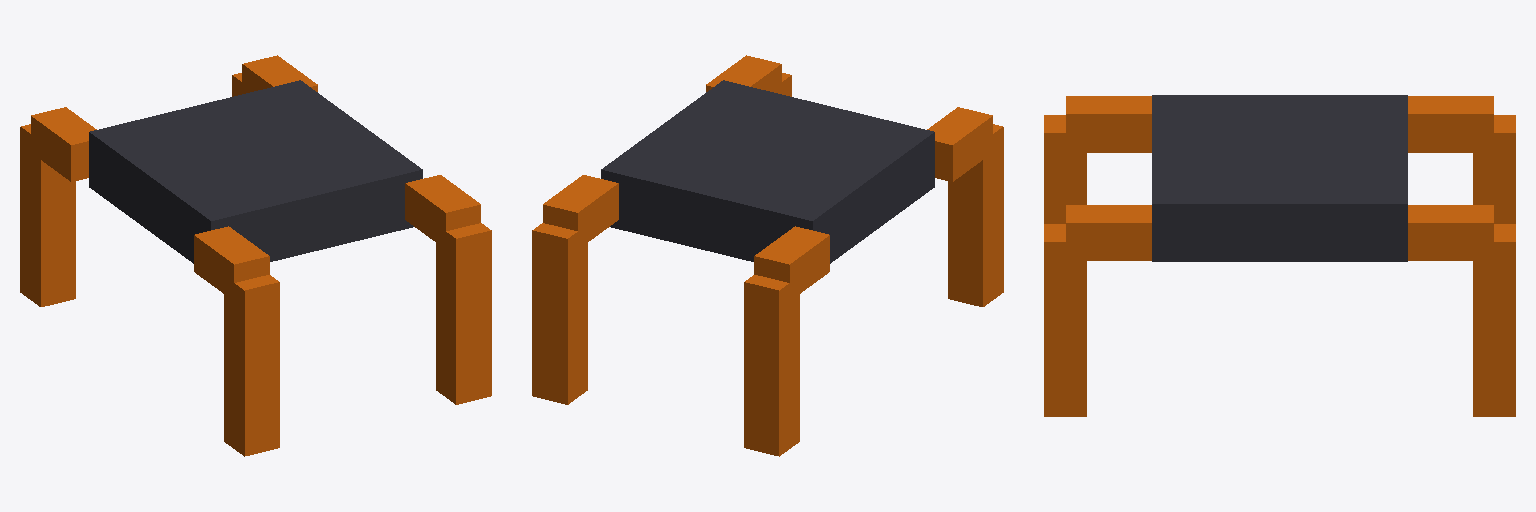
The robot description file, URDF, robot "quadruped":
<?xml version="1.0" ?>
<!-- =================================================================================== -->
<!-- |    This document was autogenerated by xacro from /workspace/src/quadruped_sim/urdf/quadruped.urdf.xacro | -->
<!-- |    EDITING THIS FILE BY HAND IS NOT RECOMMENDED                                 | -->
<!-- =================================================================================== -->
<robot name="quadruped">
  <!-- ============================================================
       SYNCHRONIZED KDL / WEBOTS MODEL

       Leg numbering:

         0 = FRONT LEFT
         1 = FRONT RIGHT
         2 = BACK LEFT
         3 = BACK RIGHT

       Coordinate convention:

         +X = forward
         +Y = left
         +Z = up
       ============================================================ -->
  <!-- BODY -->
  <!-- KDL GEOMETRY -->
  <!-- JOINT LIMITS -->
  <!-- MASSES -->
  <!-- MATERIALS -->
  <material name="body_grey">
    <color rgba="0.25 0.25 0.28 1"/>
  </material>
  <material name="leg_orange">
    <color rgba="0.85 0.45 0.1 1"/>
  </material>
  <material name="foot_black">
    <color rgba="0.05 0.05 0.05 1"/>
  </material>
  <!-- INERTIA HELPERS -->
  <!-- BASE LINK -->
  <link name="base_link">
    <visual>
      <origin rpy="0 0 0" xyz="0 0 0"/>
      <geometry>
        <box size="0.15239999999999998                 0.15239999999999998                 0.038099999999999995"/>
      </geometry>
      <material name="body_grey"/>
    </visual>
    <collision>
      <origin rpy="0 0 0" xyz="0 0 0"/>
      <geometry>
        <box size="0.15239999999999998                 0.15239999999999998                 0.038099999999999995"/>
      </geometry>
    </collision>
    <inertial>
      <origin rpy="0 0 0" xyz="0 0 0"/>
      <mass value="0.6"/>
      <inertia ixx="0.0012338684999999997" ixy="0" ixz="0" iyy="0.0012338684999999997" iyz="0" izz="0.0023225759999999994"/>
    </inertial>
  </link>
  <!-- LEG MACRO -->
  <!-- ============================================================
       LEG POSITIONS

                   +X FORWARD

              0 FL       1 FR

              2 BL       3 BR

                   -X BACK
       ============================================================ -->
  <!-- 0 FRONT LEFT -->
  <!-- JOINT 1 -->
  <joint name="joint1_leg0" type="revolute">
    <parent link="base_link"/>
    <child link="leg0_link1"/>
    <origin rpy="0 0 0" xyz="0.07619999999999999 0.07619999999999999 0"/>
    <axis xyz="0 0 1"/>
    <limit effort="2.0" lower="-1.5707963267948966" upper="1.5707963267948966" velocity="3.0"/>
  </joint>
  <!-- LINK 1 -->
  <link name="leg0_link1">
    <visual>
      <origin rpy="0 0 0" xyz="0 0.0254 0"/>
      <geometry>
        <box size="0.0254                   0.0508                   0.0254"/>
      </geometry>
      <material name="leg_orange"/>
    </visual>
    <collision>
      <origin rpy="0 0 0" xyz="0 0.0254 0"/>
      <geometry>
        <box size="0.0254                   0.0508                   0.0254"/>
      </geometry>
    </collision>
    <inertial>
      <origin rpy="0 0 0" xyz="0 0.0254 0"/>
      <mass value="0.03"/>
      <inertia ixx="8.064499999999999e-06" ixy="0" ixz="0" iyy="3.2258e-06" iyz="0" izz="8.064499999999999e-06"/>
    </inertial>
  </link>
  <!-- JOINT 3 -->
  <joint name="joint3_leg0" type="revolute">
    <parent link="leg0_link1"/>
    <child link="leg0_link2"/>
    <origin rpy="0 0 0" xyz="0 0.0508 0"/>
    <axis xyz="1 0 0"/>
    <limit effort="2.0" lower="-1.5707963267948966" upper="1.5707963267948966" velocity="3.0"/>
  </joint>
  <!-- LINK 2 -->
  <link name="leg0_link2">
    <visual>
      <origin rpy="0 0 0" xyz="0 0 -0.03175"/>
      <geometry>
        <box size="0.0254                   0.0254                   0.0635"/>
      </geometry>
      <material name="leg_orange"/>
    </visual>
    <collision>
      <origin rpy="0 0 0" xyz="0 0 -0.03175"/>
      <geometry>
        <box size="0.0254                   0.0254                   0.0635"/>
      </geometry>
    </collision>
    <inertial>
      <origin rpy="0 0 0" xyz="0 0 -0.03175"/>
      <mass value="0.03"/>
      <inertia ixx="1.1693524999999999e-05" ixy="0" ixz="0" iyy="1.1693524999999999e-05" iyz="0" izz="3.2258e-06"/>
    </inertial>
  </link>
  <!-- JOINT 4 -->
  <joint name="joint4_leg0" type="revolute">
    <parent link="leg0_link2"/>
    <child link="leg0_link3"/>
    <origin rpy="0 0 0" xyz="0 0 -0.0635"/>
    <axis xyz="1 0 0"/>
    <limit effort="2.0" lower="-1.5707963267948966" upper="1.5707963267948966" velocity="3.0"/>
  </joint>
  <!-- LINK 3 -->
  <link name="leg0_link3">
    <visual>
      <origin rpy="0 0 0" xyz="0 0 -0.0254"/>
      <geometry>
        <box size="0.0254                   0.0254                   0.0508"/>
      </geometry>
      <material name="leg_orange"/>
    </visual>
    <collision>
      <origin rpy="0 0 0" xyz="0 0 -0.0254"/>
      <geometry>
        <box size="0.0254                   0.0254                   0.0508"/>
      </geometry>
    </collision>
    <inertial>
      <origin rpy="0 0 0" xyz="0 0 -0.0254"/>
      <mass value="0.03"/>
      <inertia ixx="8.064499999999999e-06" ixy="0" ixz="0" iyy="8.064499999999999e-06" iyz="0" izz="3.2258e-06"/>
    </inertial>
  </link>
  <!-- FOOT -->
  <joint name="leg0_foot_fixed" type="fixed">
    <parent link="leg0_link3"/>
    <child link="leg0_foot"/>
    <origin rpy="0 0 0" xyz="0 0 -0.0508"/>
  </joint>
  <link name="leg0_foot">
    <visual>
      <origin rpy="0 0 0" xyz="0 0 0.0127"/>
      <geometry>
        <sphere radius="0.0127"/>
      </geometry>
      <material name="foot_black"/>
    </visual>
    <collision>
      <origin rpy="0 0 0" xyz="0 0 0.0127"/>
      <geometry>
        <sphere radius="0.0127"/>
      </geometry>
    </collision>
    <inertial>
      <origin rpy="0 0 0" xyz="0 0 0.0127"/>
      <mass value="0.01"/>
      <inertia ixx="6.4516e-07" ixy="0" ixz="0" iyy="6.4516e-07" iyz="0" izz="6.4516e-07"/>
    </inertial>
  </link>
  <!-- 1 FRONT RIGHT -->
  <!-- JOINT 1 -->
  <joint name="joint1_leg1" type="revolute">
    <parent link="base_link"/>
    <child link="leg1_link1"/>
    <origin rpy="0 0 0" xyz="0.07619999999999999 -0.07619999999999999 0"/>
    <axis xyz="0 0 1"/>
    <limit effort="2.0" lower="-1.5707963267948966" upper="1.5707963267948966" velocity="3.0"/>
  </joint>
  <!-- LINK 1 -->
  <link name="leg1_link1">
    <visual>
      <origin rpy="0 0 0" xyz="0 -0.0254 0"/>
      <geometry>
        <box size="0.0254                   0.0508                   0.0254"/>
      </geometry>
      <material name="leg_orange"/>
    </visual>
    <collision>
      <origin rpy="0 0 0" xyz="0 -0.0254 0"/>
      <geometry>
        <box size="0.0254                   0.0508                   0.0254"/>
      </geometry>
    </collision>
    <inertial>
      <origin rpy="0 0 0" xyz="0 -0.0254 0"/>
      <mass value="0.03"/>
      <inertia ixx="8.064499999999999e-06" ixy="0" ixz="0" iyy="3.2258e-06" iyz="0" izz="8.064499999999999e-06"/>
    </inertial>
  </link>
  <!-- JOINT 3 -->
  <joint name="joint3_leg1" type="revolute">
    <parent link="leg1_link1"/>
    <child link="leg1_link2"/>
    <origin rpy="0 0 0" xyz="0 -0.0508 0"/>
    <axis xyz="1 0 0"/>
    <limit effort="2.0" lower="-1.5707963267948966" upper="1.5707963267948966" velocity="3.0"/>
  </joint>
  <!-- LINK 2 -->
  <link name="leg1_link2">
    <visual>
      <origin rpy="0 0 0" xyz="0 0 -0.03175"/>
      <geometry>
        <box size="0.0254                   0.0254                   0.0635"/>
      </geometry>
      <material name="leg_orange"/>
    </visual>
    <collision>
      <origin rpy="0 0 0" xyz="0 0 -0.03175"/>
      <geometry>
        <box size="0.0254                   0.0254                   0.0635"/>
      </geometry>
    </collision>
    <inertial>
      <origin rpy="0 0 0" xyz="0 0 -0.03175"/>
      <mass value="0.03"/>
      <inertia ixx="1.1693524999999999e-05" ixy="0" ixz="0" iyy="1.1693524999999999e-05" iyz="0" izz="3.2258e-06"/>
    </inertial>
  </link>
  <!-- JOINT 4 -->
  <joint name="joint4_leg1" type="revolute">
    <parent link="leg1_link2"/>
    <child link="leg1_link3"/>
    <origin rpy="0 0 0" xyz="0 0 -0.0635"/>
    <axis xyz="1 0 0"/>
    <limit effort="2.0" lower="-1.5707963267948966" upper="1.5707963267948966" velocity="3.0"/>
  </joint>
  <!-- LINK 3 -->
  <link name="leg1_link3">
    <visual>
      <origin rpy="0 0 0" xyz="0 0 -0.0254"/>
      <geometry>
        <box size="0.0254                   0.0254                   0.0508"/>
      </geometry>
      <material name="leg_orange"/>
    </visual>
    <collision>
      <origin rpy="0 0 0" xyz="0 0 -0.0254"/>
      <geometry>
        <box size="0.0254                   0.0254                   0.0508"/>
      </geometry>
    </collision>
    <inertial>
      <origin rpy="0 0 0" xyz="0 0 -0.0254"/>
      <mass value="0.03"/>
      <inertia ixx="8.064499999999999e-06" ixy="0" ixz="0" iyy="8.064499999999999e-06" iyz="0" izz="3.2258e-06"/>
    </inertial>
  </link>
  <!-- FOOT -->
  <joint name="leg1_foot_fixed" type="fixed">
    <parent link="leg1_link3"/>
    <child link="leg1_foot"/>
    <origin rpy="0 0 0" xyz="0 0 -0.0508"/>
  </joint>
  <link name="leg1_foot">
    <visual>
      <origin rpy="0 0 0" xyz="0 0 0.0127"/>
      <geometry>
        <sphere radius="0.0127"/>
      </geometry>
      <material name="foot_black"/>
    </visual>
    <collision>
      <origin rpy="0 0 0" xyz="0 0 0.0127"/>
      <geometry>
        <sphere radius="0.0127"/>
      </geometry>
    </collision>
    <inertial>
      <origin rpy="0 0 0" xyz="0 0 0.0127"/>
      <mass value="0.01"/>
      <inertia ixx="6.4516e-07" ixy="0" ixz="0" iyy="6.4516e-07" iyz="0" izz="6.4516e-07"/>
    </inertial>
  </link>
  <!-- 2 BACK LEFT -->
  <!-- JOINT 1 -->
  <joint name="joint1_leg2" type="revolute">
    <parent link="base_link"/>
    <child link="leg2_link1"/>
    <origin rpy="0 0 0" xyz="-0.07619999999999999 0.07619999999999999 0"/>
    <axis xyz="0 0 1"/>
    <limit effort="2.0" lower="-1.5707963267948966" upper="1.5707963267948966" velocity="3.0"/>
  </joint>
  <!-- LINK 1 -->
  <link name="leg2_link1">
    <visual>
      <origin rpy="0 0 0" xyz="0 0.0254 0"/>
      <geometry>
        <box size="0.0254                   0.0508                   0.0254"/>
      </geometry>
      <material name="leg_orange"/>
    </visual>
    <collision>
      <origin rpy="0 0 0" xyz="0 0.0254 0"/>
      <geometry>
        <box size="0.0254                   0.0508                   0.0254"/>
      </geometry>
    </collision>
    <inertial>
      <origin rpy="0 0 0" xyz="0 0.0254 0"/>
      <mass value="0.03"/>
      <inertia ixx="8.064499999999999e-06" ixy="0" ixz="0" iyy="3.2258e-06" iyz="0" izz="8.064499999999999e-06"/>
    </inertial>
  </link>
  <!-- JOINT 3 -->
  <joint name="joint3_leg2" type="revolute">
    <parent link="leg2_link1"/>
    <child link="leg2_link2"/>
    <origin rpy="0 0 0" xyz="0 0.0508 0"/>
    <axis xyz="1 0 0"/>
    <limit effort="2.0" lower="-1.5707963267948966" upper="1.5707963267948966" velocity="3.0"/>
  </joint>
  <!-- LINK 2 -->
  <link name="leg2_link2">
    <visual>
      <origin rpy="0 0 0" xyz="0 0 -0.03175"/>
      <geometry>
        <box size="0.0254                   0.0254                   0.0635"/>
      </geometry>
      <material name="leg_orange"/>
    </visual>
    <collision>
      <origin rpy="0 0 0" xyz="0 0 -0.03175"/>
      <geometry>
        <box size="0.0254                   0.0254                   0.0635"/>
      </geometry>
    </collision>
    <inertial>
      <origin rpy="0 0 0" xyz="0 0 -0.03175"/>
      <mass value="0.03"/>
      <inertia ixx="1.1693524999999999e-05" ixy="0" ixz="0" iyy="1.1693524999999999e-05" iyz="0" izz="3.2258e-06"/>
    </inertial>
  </link>
  <!-- JOINT 4 -->
  <joint name="joint4_leg2" type="revolute">
    <parent link="leg2_link2"/>
    <child link="leg2_link3"/>
    <origin rpy="0 0 0" xyz="0 0 -0.0635"/>
    <axis xyz="1 0 0"/>
    <limit effort="2.0" lower="-1.5707963267948966" upper="1.5707963267948966" velocity="3.0"/>
  </joint>
  <!-- LINK 3 -->
  <link name="leg2_link3">
    <visual>
      <origin rpy="0 0 0" xyz="0 0 -0.0254"/>
      <geometry>
        <box size="0.0254                   0.0254                   0.0508"/>
      </geometry>
      <material name="leg_orange"/>
    </visual>
    <collision>
      <origin rpy="0 0 0" xyz="0 0 -0.0254"/>
      <geometry>
        <box size="0.0254                   0.0254                   0.0508"/>
      </geometry>
    </collision>
    <inertial>
      <origin rpy="0 0 0" xyz="0 0 -0.0254"/>
      <mass value="0.03"/>
      <inertia ixx="8.064499999999999e-06" ixy="0" ixz="0" iyy="8.064499999999999e-06" iyz="0" izz="3.2258e-06"/>
    </inertial>
  </link>
  <!-- FOOT -->
  <joint name="leg2_foot_fixed" type="fixed">
    <parent link="leg2_link3"/>
    <child link="leg2_foot"/>
    <origin rpy="0 0 0" xyz="0 0 -0.0508"/>
  </joint>
  <link name="leg2_foot">
    <visual>
      <origin rpy="0 0 0" xyz="0 0 0.0127"/>
      <geometry>
        <sphere radius="0.0127"/>
      </geometry>
      <material name="foot_black"/>
    </visual>
    <collision>
      <origin rpy="0 0 0" xyz="0 0 0.0127"/>
      <geometry>
        <sphere radius="0.0127"/>
      </geometry>
    </collision>
    <inertial>
      <origin rpy="0 0 0" xyz="0 0 0.0127"/>
      <mass value="0.01"/>
      <inertia ixx="6.4516e-07" ixy="0" ixz="0" iyy="6.4516e-07" iyz="0" izz="6.4516e-07"/>
    </inertial>
  </link>
  <!-- 3 BACK RIGHT -->
  <!-- JOINT 1 -->
  <joint name="joint1_leg3" type="revolute">
    <parent link="base_link"/>
    <child link="leg3_link1"/>
    <origin rpy="0 0 0" xyz="-0.07619999999999999 -0.07619999999999999 0"/>
    <axis xyz="0 0 1"/>
    <limit effort="2.0" lower="-1.5707963267948966" upper="1.5707963267948966" velocity="3.0"/>
  </joint>
  <!-- LINK 1 -->
  <link name="leg3_link1">
    <visual>
      <origin rpy="0 0 0" xyz="0 -0.0254 0"/>
      <geometry>
        <box size="0.0254                   0.0508                   0.0254"/>
      </geometry>
      <material name="leg_orange"/>
    </visual>
    <collision>
      <origin rpy="0 0 0" xyz="0 -0.0254 0"/>
      <geometry>
        <box size="0.0254                   0.0508                   0.0254"/>
      </geometry>
    </collision>
    <inertial>
      <origin rpy="0 0 0" xyz="0 -0.0254 0"/>
      <mass value="0.03"/>
      <inertia ixx="8.064499999999999e-06" ixy="0" ixz="0" iyy="3.2258e-06" iyz="0" izz="8.064499999999999e-06"/>
    </inertial>
  </link>
  <!-- JOINT 3 -->
  <joint name="joint3_leg3" type="revolute">
    <parent link="leg3_link1"/>
    <child link="leg3_link2"/>
    <origin rpy="0 0 0" xyz="0 -0.0508 0"/>
    <axis xyz="1 0 0"/>
    <limit effort="2.0" lower="-1.5707963267948966" upper="1.5707963267948966" velocity="3.0"/>
  </joint>
  <!-- LINK 2 -->
  <link name="leg3_link2">
    <visual>
      <origin rpy="0 0 0" xyz="0 0 -0.03175"/>
      <geometry>
        <box size="0.0254                   0.0254                   0.0635"/>
      </geometry>
      <material name="leg_orange"/>
    </visual>
    <collision>
      <origin rpy="0 0 0" xyz="0 0 -0.03175"/>
      <geometry>
        <box size="0.0254                   0.0254                   0.0635"/>
      </geometry>
    </collision>
    <inertial>
      <origin rpy="0 0 0" xyz="0 0 -0.03175"/>
      <mass value="0.03"/>
      <inertia ixx="1.1693524999999999e-05" ixy="0" ixz="0" iyy="1.1693524999999999e-05" iyz="0" izz="3.2258e-06"/>
    </inertial>
  </link>
  <!-- JOINT 4 -->
  <joint name="joint4_leg3" type="revolute">
    <parent link="leg3_link2"/>
    <child link="leg3_link3"/>
    <origin rpy="0 0 0" xyz="0 0 -0.0635"/>
    <axis xyz="1 0 0"/>
    <limit effort="2.0" lower="-1.5707963267948966" upper="1.5707963267948966" velocity="3.0"/>
  </joint>
  <!-- LINK 3 -->
  <link name="leg3_link3">
    <visual>
      <origin rpy="0 0 0" xyz="0 0 -0.0254"/>
      <geometry>
        <box size="0.0254                   0.0254                   0.0508"/>
      </geometry>
      <material name="leg_orange"/>
    </visual>
    <collision>
      <origin rpy="0 0 0" xyz="0 0 -0.0254"/>
      <geometry>
        <box size="0.0254                   0.0254                   0.0508"/>
      </geometry>
    </collision>
    <inertial>
      <origin rpy="0 0 0" xyz="0 0 -0.0254"/>
      <mass value="0.03"/>
      <inertia ixx="8.064499999999999e-06" ixy="0" ixz="0" iyy="8.064499999999999e-06" iyz="0" izz="3.2258e-06"/>
    </inertial>
  </link>
  <!-- FOOT -->
  <joint name="leg3_foot_fixed" type="fixed">
    <parent link="leg3_link3"/>
    <child link="leg3_foot"/>
    <origin rpy="0 0 0" xyz="0 0 -0.0508"/>
  </joint>
  <link name="leg3_foot">
    <visual>
      <origin rpy="0 0 0" xyz="0 0 0.0127"/>
      <geometry>
        <sphere radius="0.0127"/>
      </geometry>
      <material name="foot_black"/>
    </visual>
    <collision>
      <origin rpy="0 0 0" xyz="0 0 0.0127"/>
      <geometry>
        <sphere radius="0.0127"/>
      </geometry>
    </collision>
    <inertial>
      <origin rpy="0 0 0" xyz="0 0 0.0127"/>
      <mass value="0.01"/>
      <inertia ixx="6.4516e-07" ixy="0" ixz="0" iyy="6.4516e-07" iyz="0" izz="6.4516e-07"/>
    </inertial>
  </link>
  <!-- WEBOTS PLUGIN -->
  <webots>
    <plugin type="webots_ros2_control::Ros2Control"/>
  </webots>
  <!-- CONTROLLED JOINT MACRO -->
  <!-- ROS2 CONTROL -->
  <ros2_control name="WebotsControl" type="system">
    <hardware>
      <plugin>webots_ros2_control::Ros2ControlSystem</plugin>
    </hardware>
    <!-- LEG 0 FL -->
    <joint name="joint1_leg0">
      <command_interface name="position">
        <param name="min">
          -1.5707963267948966
        </param>
        <param name="max">
          1.5707963267948966
        </param>
      </command_interface>
      <state_interface name="position"/>
      <state_interface name="velocity"/>
    </joint>
    <joint name="joint3_leg0">
      <command_interface name="position">
        <param name="min">
          -1.5707963267948966
        </param>
        <param name="max">
          1.5707963267948966
        </param>
      </command_interface>
      <state_interface name="position"/>
      <state_interface name="velocity"/>
    </joint>
    <joint name="joint4_leg0">
      <command_interface name="position">
        <param name="min">
          -1.5707963267948966
        </param>
        <param name="max">
          1.5707963267948966
        </param>
      </command_interface>
      <state_interface name="position"/>
      <state_interface name="velocity"/>
    </joint>
    <!-- LEG 1 FR -->
    <joint name="joint1_leg1">
      <command_interface name="position">
        <param name="min">
          -1.5707963267948966
        </param>
        <param name="max">
          1.5707963267948966
        </param>
      </command_interface>
      <state_interface name="position"/>
      <state_interface name="velocity"/>
    </joint>
    <joint name="joint3_leg1">
      <command_interface name="position">
        <param name="min">
          -1.5707963267948966
        </param>
        <param name="max">
          1.5707963267948966
        </param>
      </command_interface>
      <state_interface name="position"/>
      <state_interface name="velocity"/>
    </joint>
    <joint name="joint4_leg1">
      <command_interface name="position">
        <param name="min">
          -1.5707963267948966
        </param>
        <param name="max">
          1.5707963267948966
        </param>
      </command_interface>
      <state_interface name="position"/>
      <state_interface name="velocity"/>
    </joint>
    <!-- LEG 2 BL -->
    <joint name="joint1_leg2">
      <command_interface name="position">
        <param name="min">
          -1.5707963267948966
        </param>
        <param name="max">
          1.5707963267948966
        </param>
      </command_interface>
      <state_interface name="position"/>
      <state_interface name="velocity"/>
    </joint>
    <joint name="joint3_leg2">
      <command_interface name="position">
        <param name="min">
          -1.5707963267948966
        </param>
        <param name="max">
          1.5707963267948966
        </param>
      </command_interface>
      <state_interface name="position"/>
      <state_interface name="velocity"/>
    </joint>
    <joint name="joint4_leg2">
      <command_interface name="position">
        <param name="min">
          -1.5707963267948966
        </param>
        <param name="max">
          1.5707963267948966
        </param>
      </command_interface>
      <state_interface name="position"/>
      <state_interface name="velocity"/>
    </joint>
    <!-- LEG 3 BR -->
    <joint name="joint1_leg3">
      <command_interface name="position">
        <param name="min">
          -1.5707963267948966
        </param>
        <param name="max">
          1.5707963267948966
        </param>
      </command_interface>
      <state_interface name="position"/>
      <state_interface name="velocity"/>
    </joint>
    <joint name="joint3_leg3">
      <command_interface name="position">
        <param name="min">
          -1.5707963267948966
        </param>
        <param name="max">
          1.5707963267948966
        </param>
      </command_interface>
      <state_interface name="position"/>
      <state_interface name="velocity"/>
    </joint>
    <joint name="joint4_leg3">
      <command_interface name="position">
        <param name="min">
          -1.5707963267948966
        </param>
        <param name="max">
          1.5707963267948966
        </param>
      </command_interface>
      <state_interface name="position"/>
      <state_interface name="velocity"/>
    </joint>
  </ros2_control>
</robot>

--- Render facts (derived) ---
Views: 3 orthographic renders of the robot side by side, from view 1: azimuth 30°, elevation 25°; view 2: azimuth 150°, elevation 25°; view 3: azimuth 270°, elevation 25°.
Model quadruped with 17 links and 16 joints (12 revolute, 4 fixed), rooted at base_link, posed every joint at zero.
Links seen in each view (by area): view 1: base_link, leg1_link2, leg3_link2, leg1_link3, leg3_link3, leg2_link3, leg2_link2, leg3_link1, leg2_link1, leg1_link1, leg0_link1; view 2: base_link, leg0_link2, leg2_link2, leg0_link3, leg2_link3, leg3_link3, leg3_link2, leg2_link1, leg0_link1, leg3_link1, leg1_link1; view 3: base_link, leg0_link1, leg1_link1, leg3_link1, leg2_link1, leg1_link2, leg0_link2, leg2_link2, leg3_link2, leg0_link3, leg1_link3.
Boxes of the visible links, x1,y1,x2,y2 form: base_link: (89,80,422,263); leg1_link2: (436,223,491,330); leg3_link2: (224,275,279,382); leg1_link3: (436,317,491,404); leg3_link3: (224,368,279,456); leg2_link3: (20,219,75,306); leg2_link2: (20,124,75,233); leg3_link1: (194,226,269,300); leg2_link1: (31,107,96,181); leg1_link1: (405,175,480,241); leg0_link1: (242,55,317,93); base_link: (601,80,934,263); leg0_link2: (532,223,587,330); leg2_link2: (744,275,799,382); leg0_link3: (532,317,587,404); leg2_link3: (744,368,799,456); leg3_link3: (948,219,1003,306); leg3_link2: (948,124,1003,233); leg2_link1: (754,226,829,300); leg0_link1: (543,175,618,242); leg3_link1: (927,107,992,181); leg1_link1: (706,55,781,93); base_link: (1152,95,1407,261); leg0_link1: (1408,205,1493,260); leg1_link1: (1066,205,1151,260); leg3_link1: (1066,96,1151,152); leg2_link1: (1408,96,1493,152); leg1_link2: (1044,224,1086,338); leg0_link2: (1473,224,1515,338); leg2_link2: (1473,115,1515,223); leg3_link2: (1044,115,1086,223); leg0_link3: (1473,339,1515,416); leg1_link3: (1044,339,1086,416).
Size in the robot's own frame: 0.1778 by 0.2794 by 0.1333 metres.
Geometry: primitives only (box / cylinder / sphere), no mesh files.
